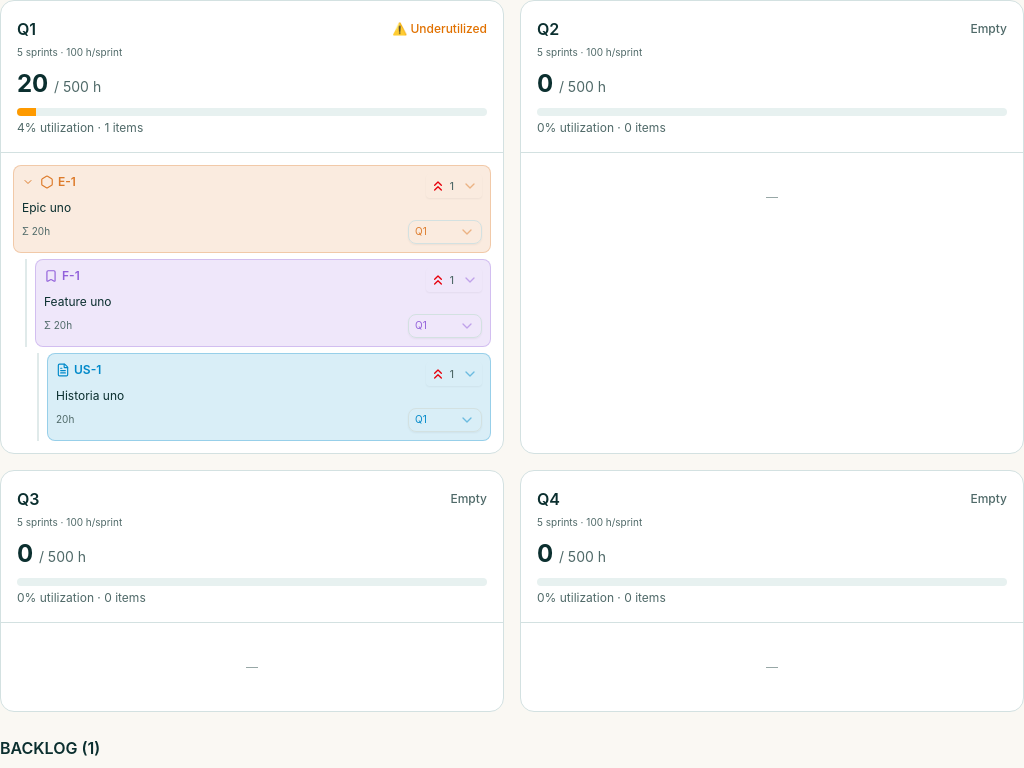
Scenario: RoadmapView › abre el detalle del item al hacer clic en una tarjeta
Click the text "Epic uno" at (47, 208), box [22,200,71,215]
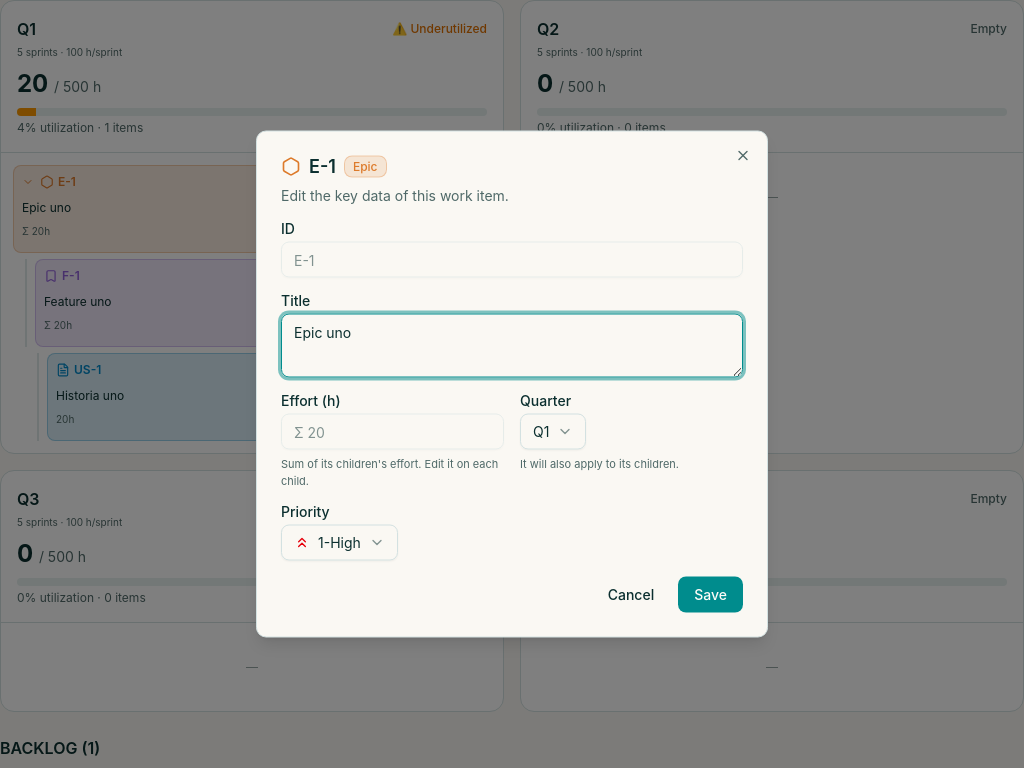
Result: the dialog is shown at [256,130,768,638]
